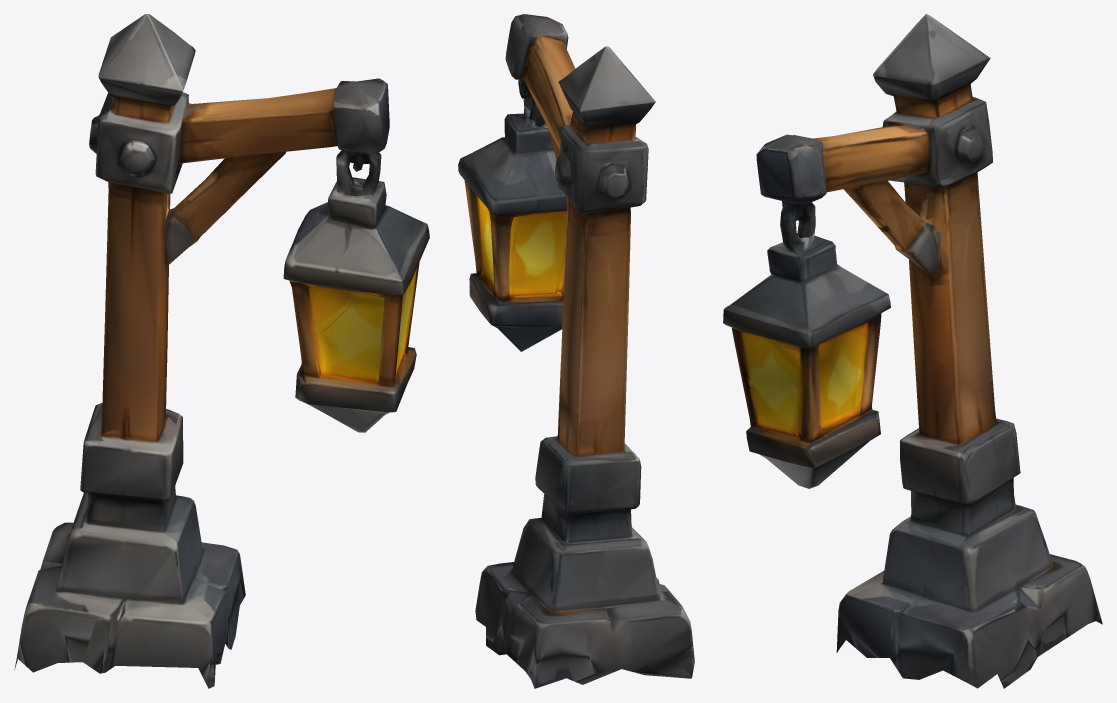
The model's file is dec_lamp.glb.
3 renders of one model, left to right at view 1: azimuth 30°, elevation 25°; view 2: azimuth 150°, elevation 25°; view 3: azimuth 270°, elevation 25°, orthographic. The views are drawn at different scales.
Visible parts, largest first — view 1: BakeLow; view 2: BakeLow; view 3: BakeLow.
Boxes of the visible parts, x1,y1,x2,y2 form: BakeLow: [14, 14, 429, 688]; BakeLow: [458, 14, 694, 688]; BakeLow: [723, 14, 1102, 688].
Bounding box in the file's own units: 0.4886 × 0.899 × 0.4911.
Materials: 1 (1 with a texture image).
